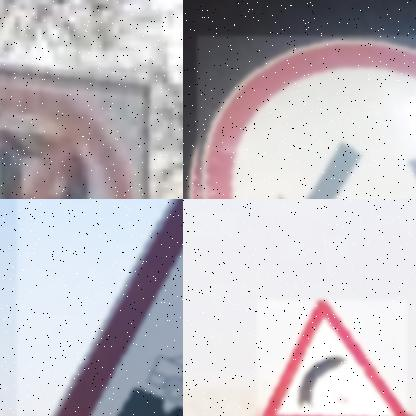No Parking: (0, 64, 149, 199)
Right bend: (264, 301, 406, 416)
Road Divides: (198, 36, 416, 199)
Steep Descent: (50, 199, 183, 416)
